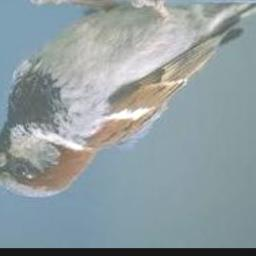Sparrow: (0, 0, 256, 198)
